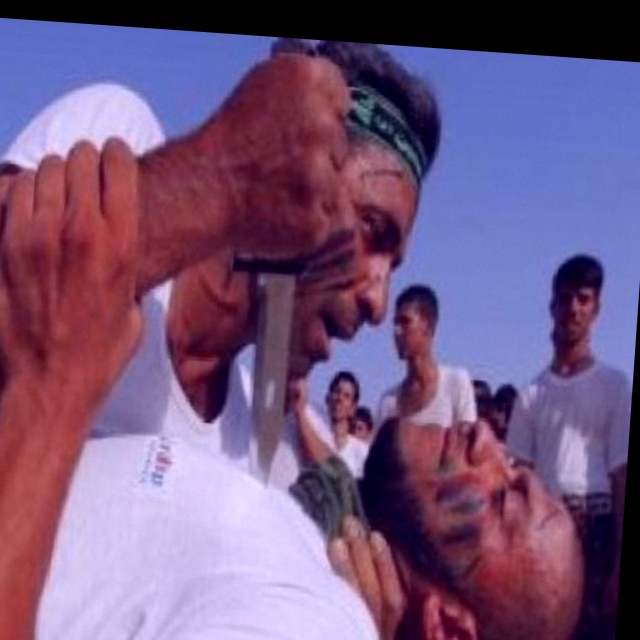Sharp-Object: (218, 35, 325, 487)
